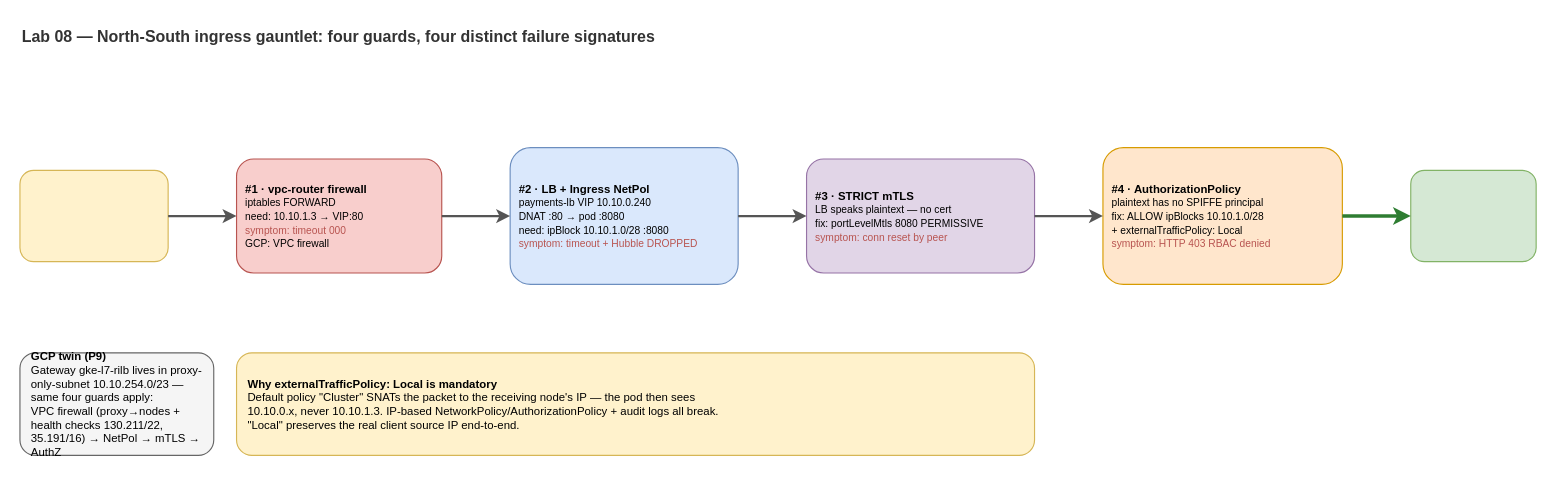
Image size: 1556x478. Some labels were removed from this diagram. The shapes that lost their labels are listed below. From the top down, each one's centre as x and y in pixels, then its label:
(93,215): probe client 10.10.1.3 acme-ops subnet (GCP: ops VM via IAP)
(1473,215): payments pod :8080 HTTP 200 OK
